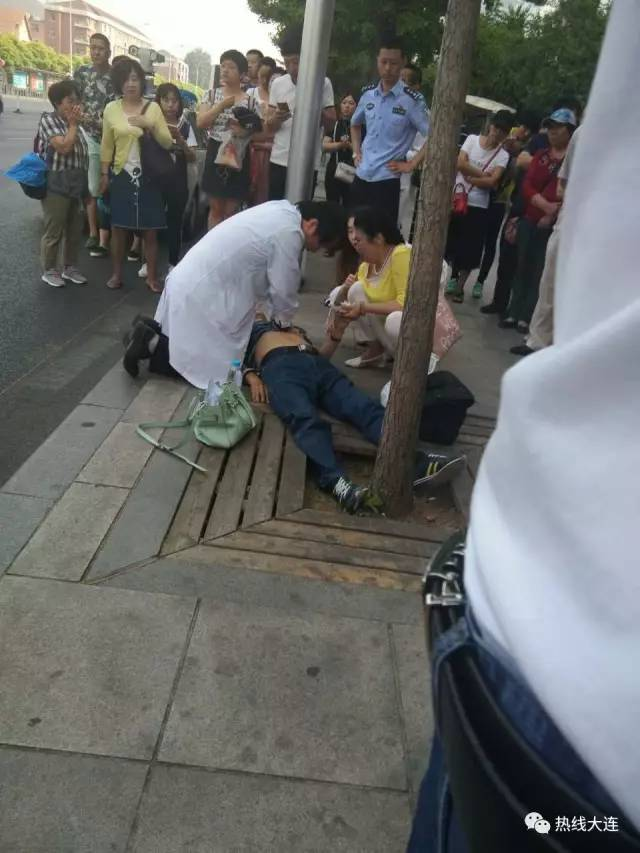fall: (231, 300, 460, 523)
